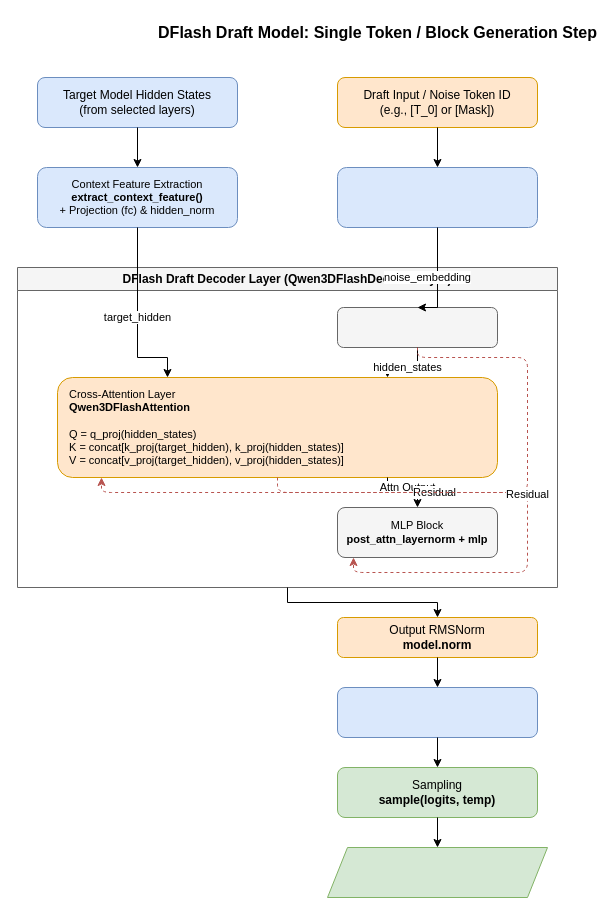
Some shapes in this 615 by 915 pixel diagram are drawn without their labels. Each missing label, with the centre of its shape:
"Generated Draft Token ID" goes at point 437,872.
"Input RMSNorm input_layernorm" goes at point 417,327.
"Shared Embedding Layer target.model.embed_tokens" goes at point 437,197.
"Shared Language Model Head target.lm_head" goes at point 437,712.
